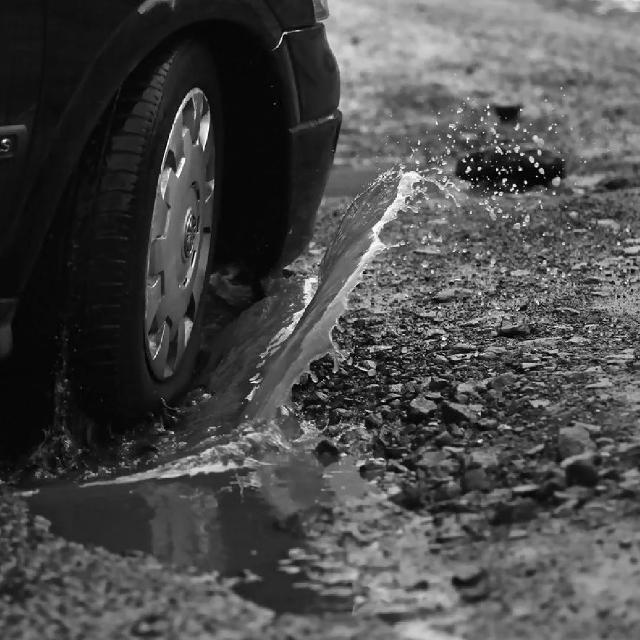Pothole: (11, 460, 433, 628)
